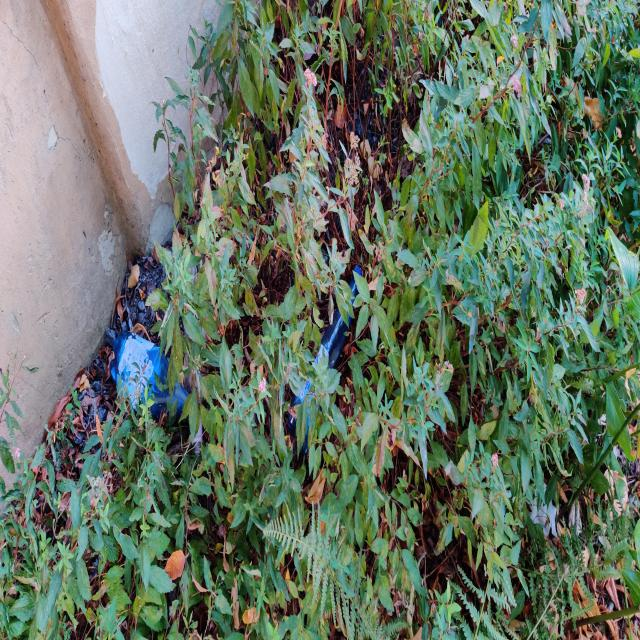litter: (287, 268, 361, 453), (110, 330, 191, 416)
